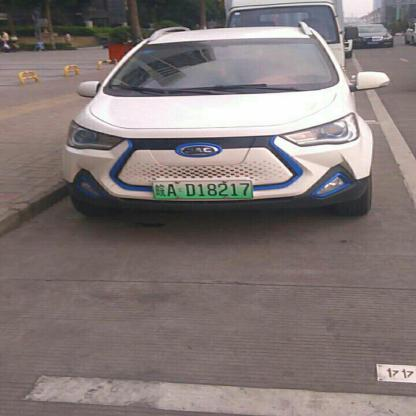lp: (151, 180, 253, 198)
